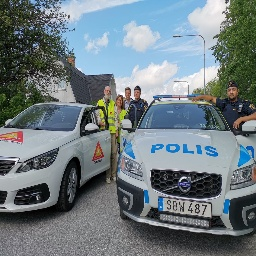sv_licence_plate: (158, 196, 213, 218)
